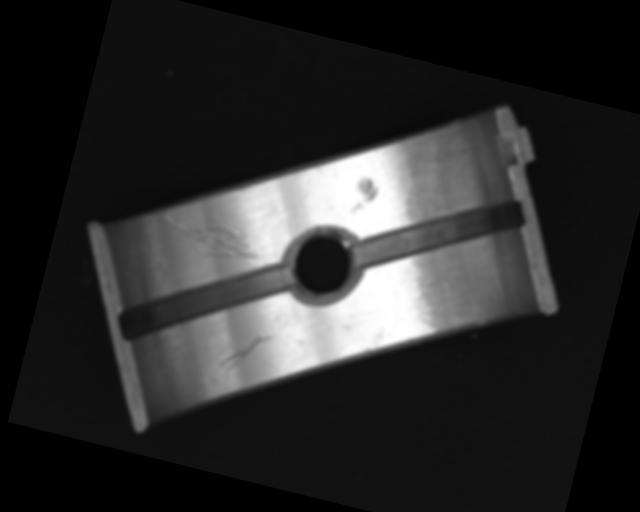bruise: (348, 174, 381, 220)
gap: (116, 230, 294, 373), (354, 166, 527, 303)
hole: (276, 220, 369, 309)
nick: (156, 210, 264, 268), (217, 323, 271, 379)
